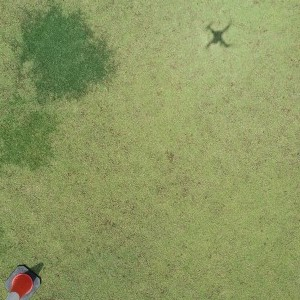traffic cone: (5, 264, 42, 300)
